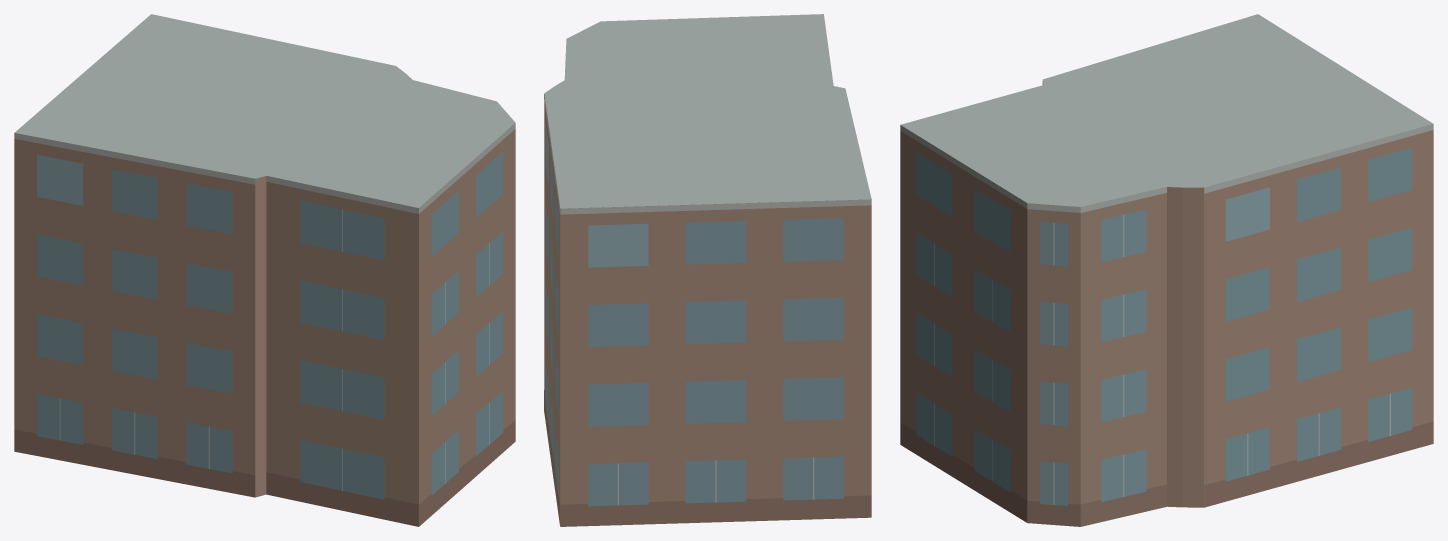
File: survey-upis-32806392.glb
3 renders of one model, left to right at view 1: azimuth 30°, elevation 25°; view 2: azimuth 150°, elevation 25°; view 3: azimuth 270°, elevation 25°, orthographic.
Parts seen in each view (by area): view 1: survey-upis-32806392.tmp; view 2: survey-upis-32806392.tmp; view 3: survey-upis-32806392.tmp.
Part boxes in pixels (box(x1,y1,x2,y2)): survey-upis-32806392.tmp: box(14, 14, 515, 526); survey-upis-32806392.tmp: box(544, 14, 871, 526); survey-upis-32806392.tmp: box(900, 14, 1433, 526).
Size of the model in its own units: 16.97 by 13.1 by 19.81.
